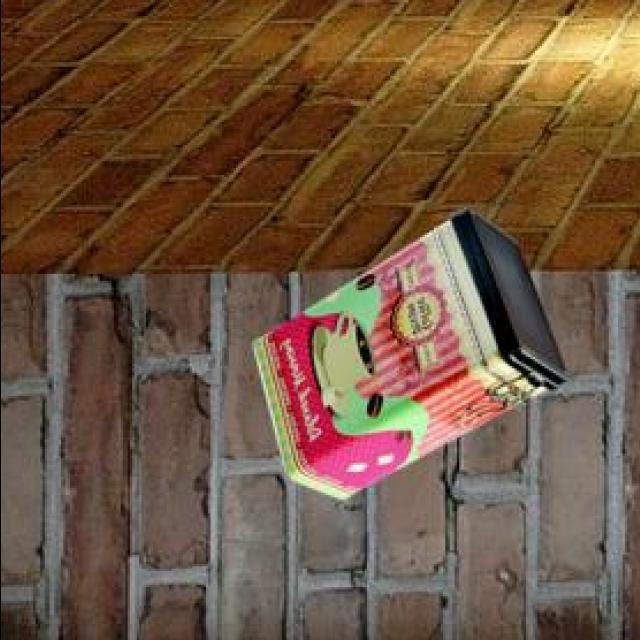logam: (250, 204, 563, 496)
